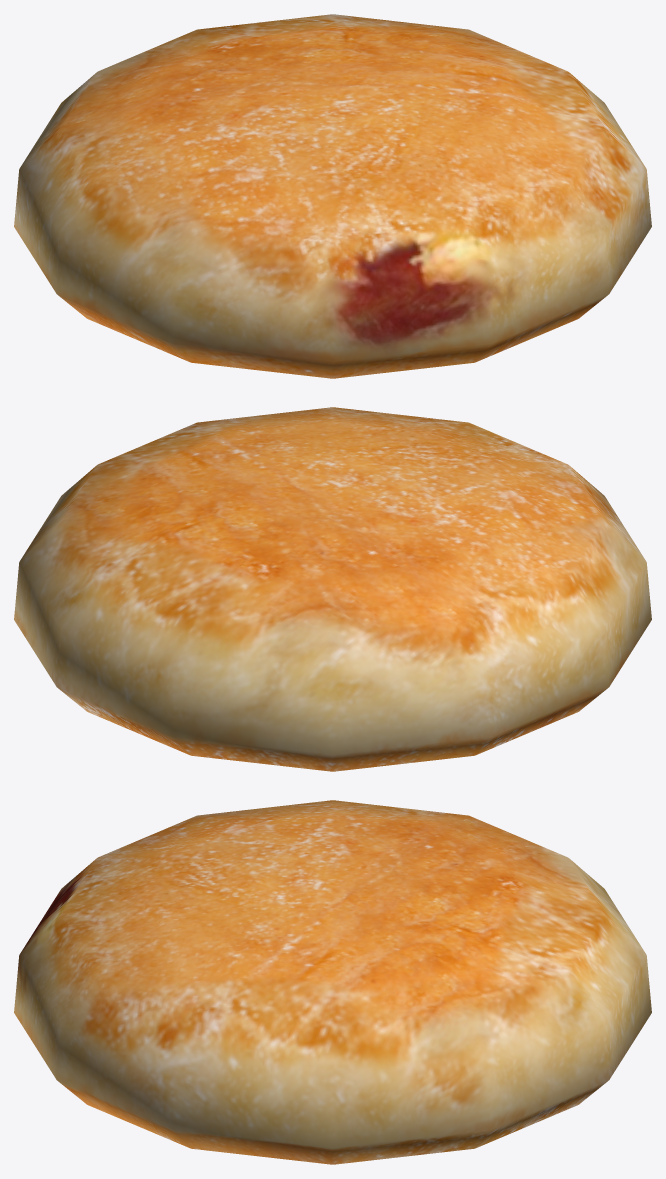
The model's file is FFHP_MOD_Donut_jelly_jam.fbx.
3 views of the same model, one above another, from view 1: azimuth 30°, elevation 25°; view 2: azimuth 150°, elevation 25°; view 3: azimuth 270°, elevation 25° (orthographic).
Visible parts, largest first — view 1: FFHP_MOD_Jelly_donut_sugar; view 2: FFHP_MOD_Jelly_donut_sugar; view 3: FFHP_MOD_Jelly_donut_sugar.
Part boxes in pixels (left/top/right/bottom): FFHP_MOD_Jelly_donut_sugar: left=14, top=14, right=651, bottom=378; FFHP_MOD_Jelly_donut_sugar: left=14, top=407, right=651, bottom=771; FFHP_MOD_Jelly_donut_sugar: left=14, top=800, right=651, bottom=1164.
Size of the model in its own units: 0.4158 by 0.1279 by 0.4158.
